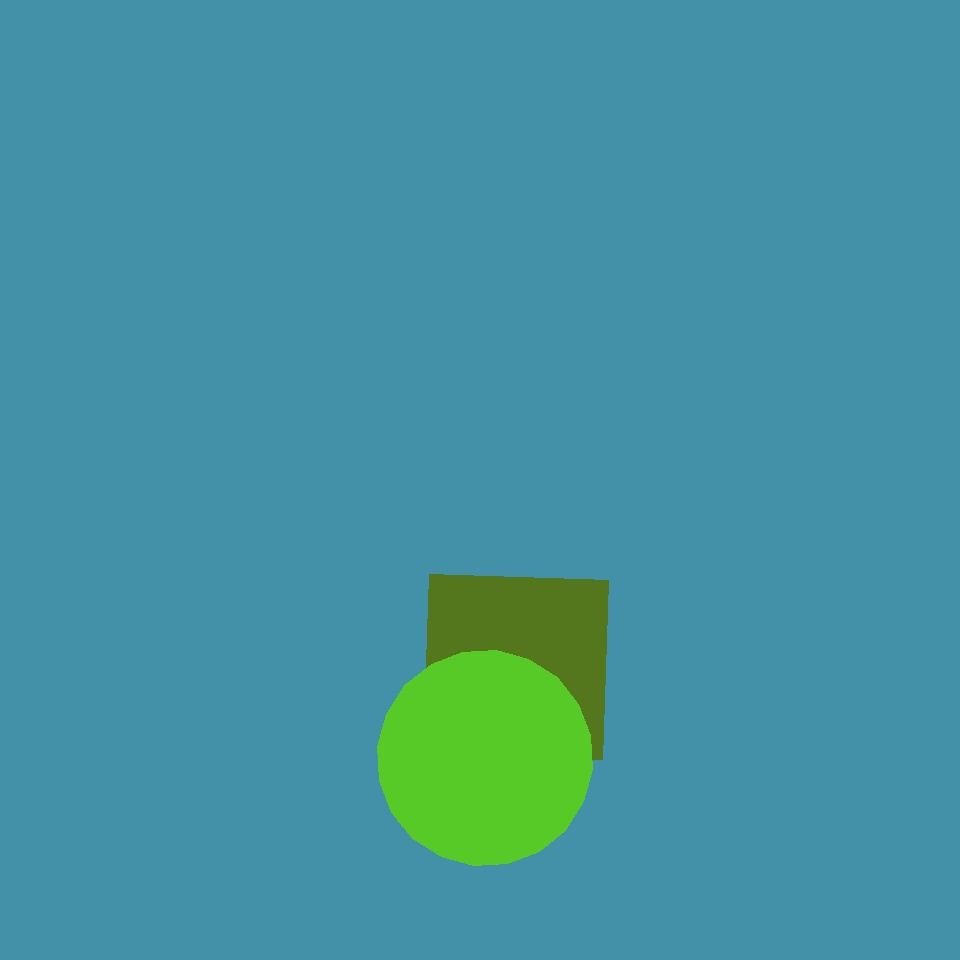square: (423, 575, 608, 760)
triangle: (519, 588, 867, 936), (331, 517, 610, 796), (378, 650, 592, 865), (774, 401, 954, 582)
